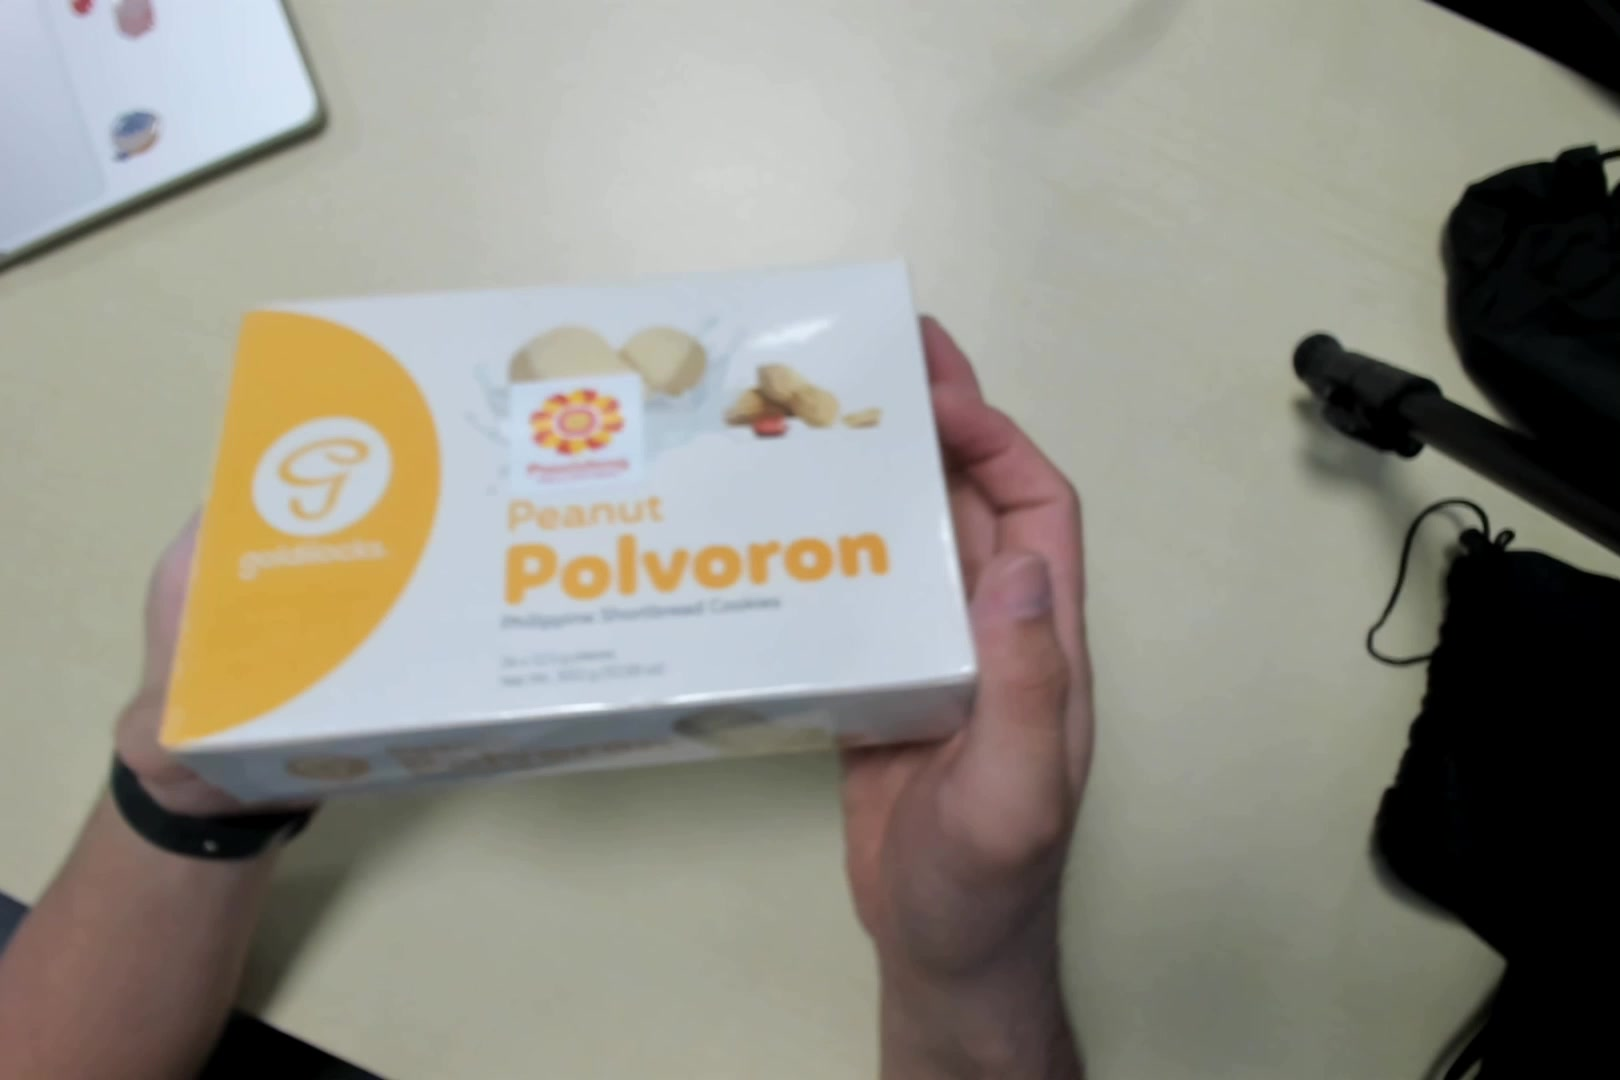SweetsChocolatesOthers_300-399g_Halal_NonHealthy: (172, 282, 975, 761)
